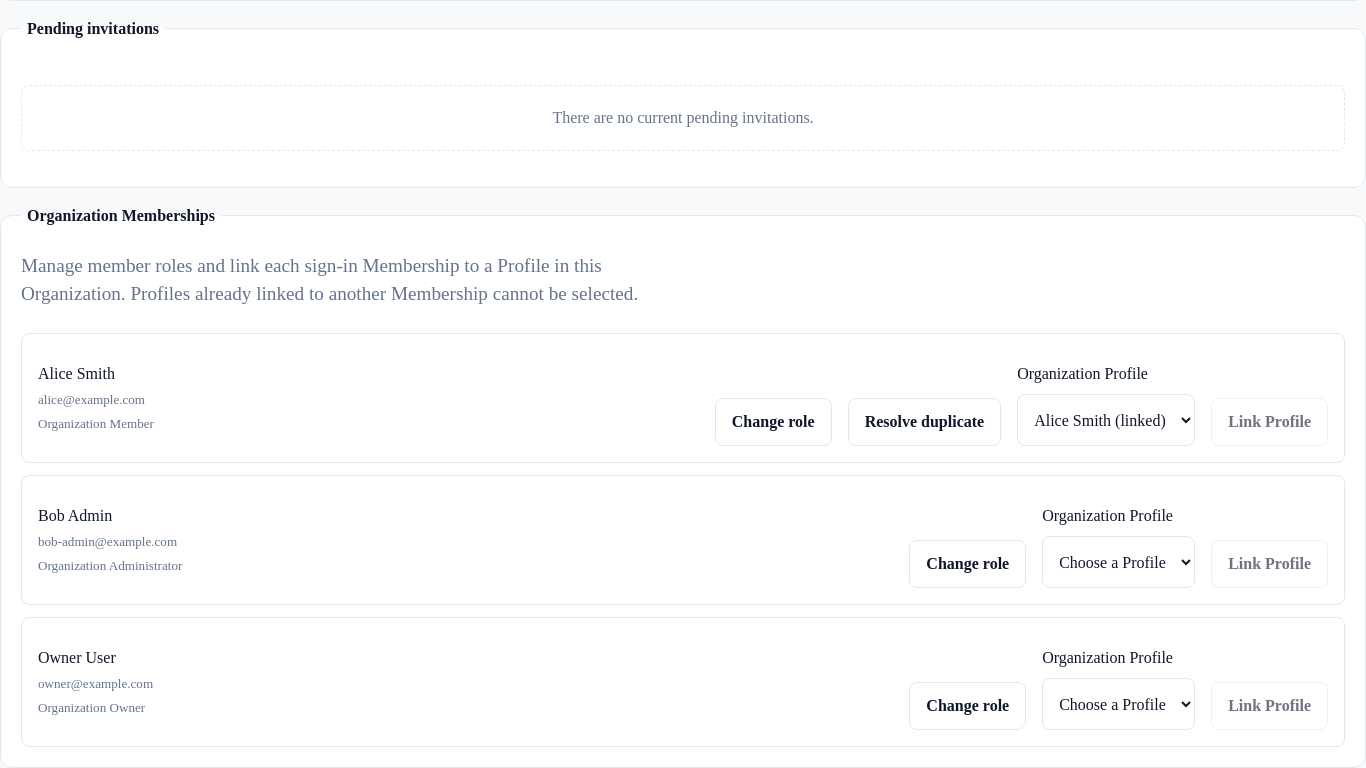
Test: OrganizationInvitations membership role management › opens dialog, allows selecting new role, displays owner promotion notice, and saves role
This screenshot has width=1366, height=768.
(page scrolled)
Click the button with aria-label "Change role for Alice Smith" at (773,422), box [715,398,832,446]
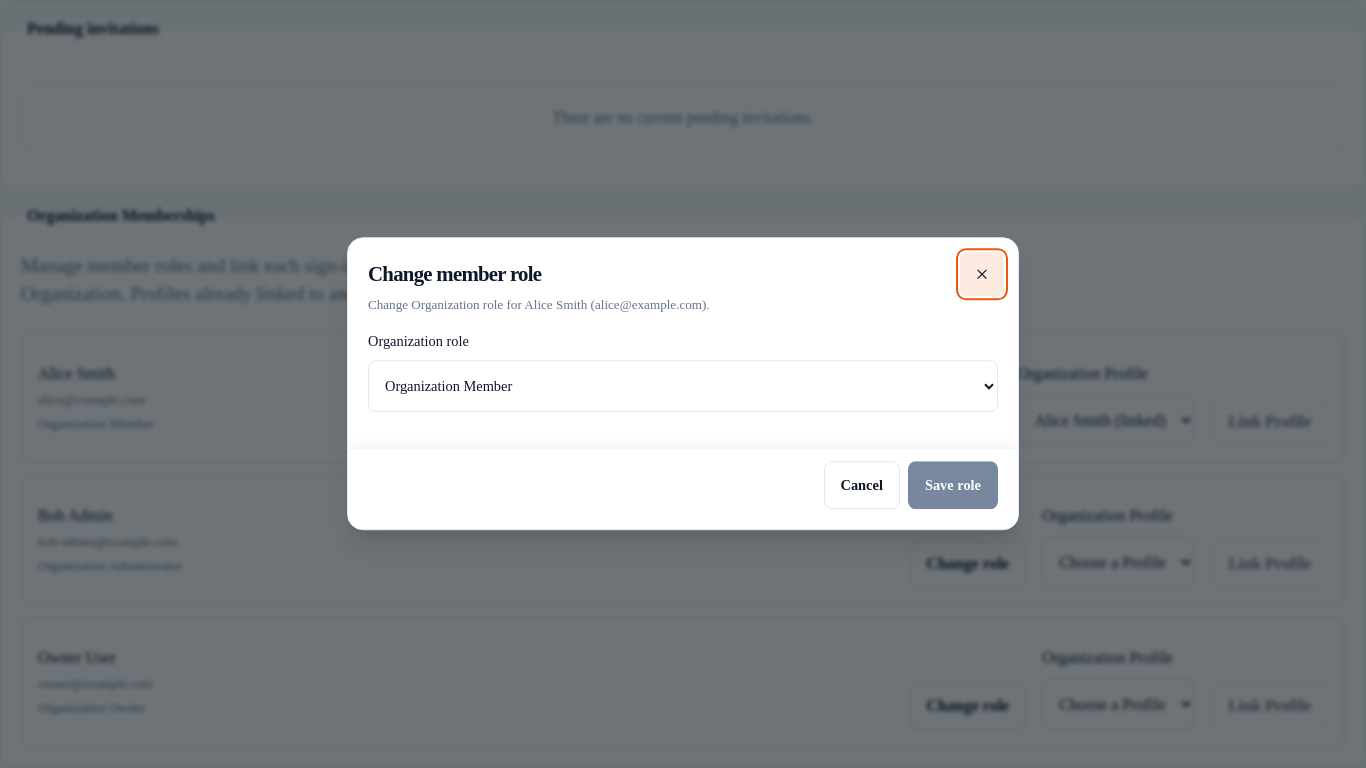
expect the dialog is shown: met, box [347,237,1019,531]
expect the heading "Change member role" is shown: met, box [368,262,541,285]
expect the dropdown labelled "Organization role" shows "Organization Member": met
# Select "owner"
Select "Organization Owner" in the dropdown labelled "Organization role" at (683,387), box [368,361,998,413]
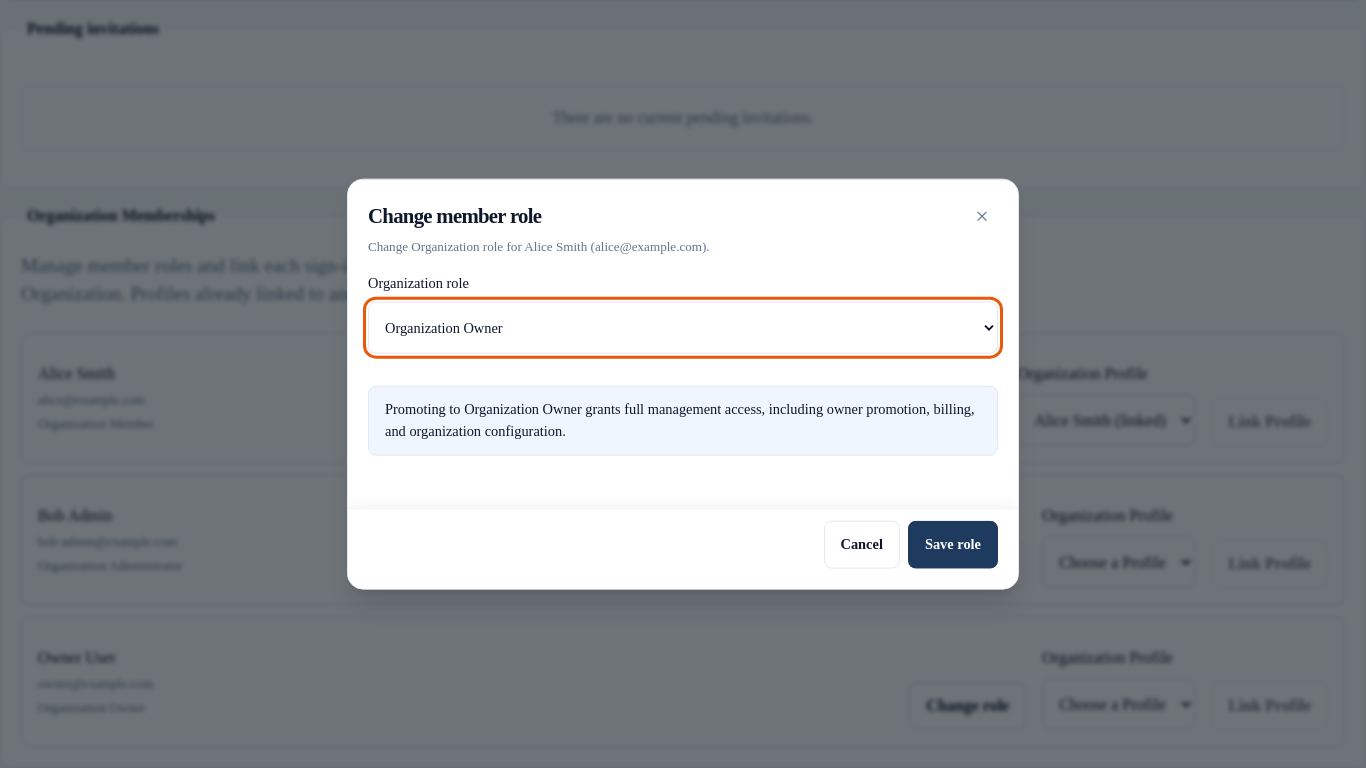
expect the text "Promoting to Organization Owner grants full management access" is shown: met, box [385,401,975,439]
# Click Save role
Click the button "Save role" at (953,544), box [908,520,998,568]
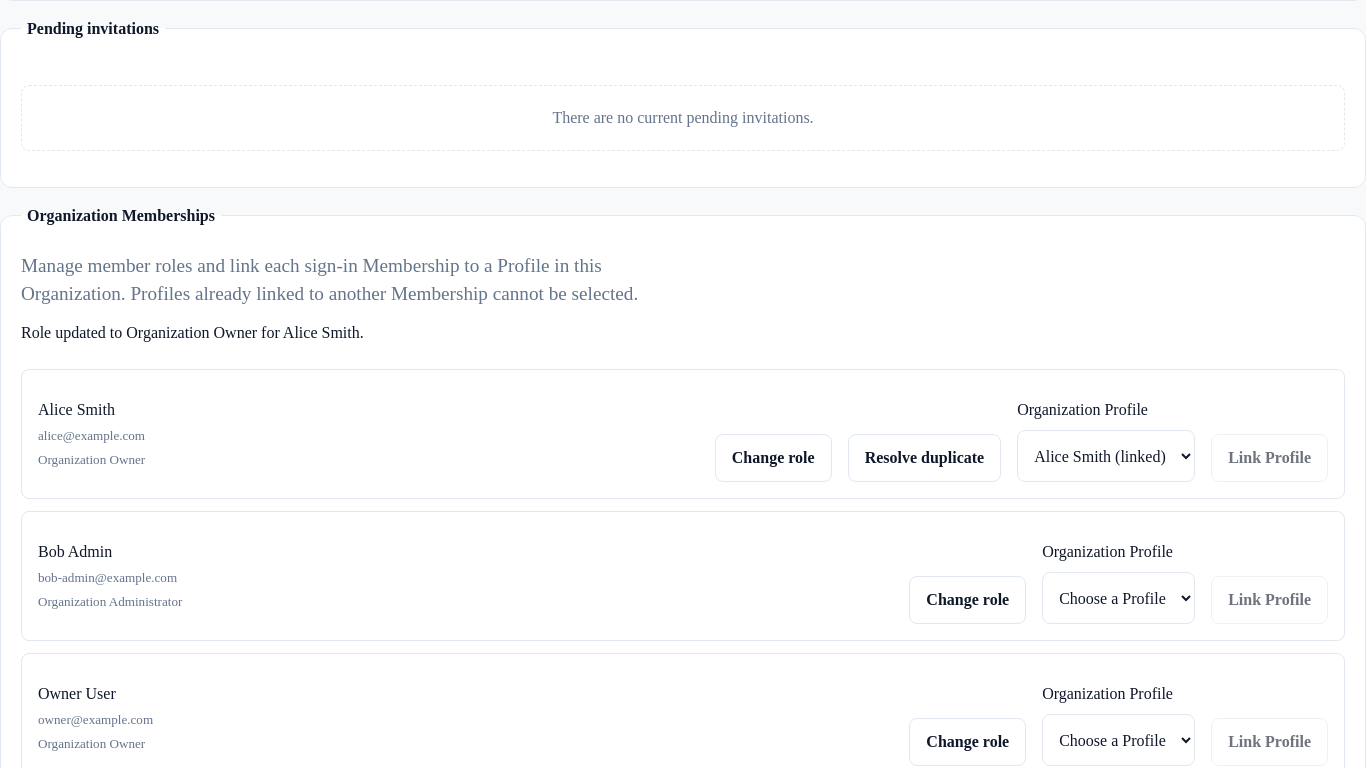
expect the dialog is gone: met
expect the text "Role updated to Organization Owner for Alice Smith." is shown: met, box [21,324,364,341]
